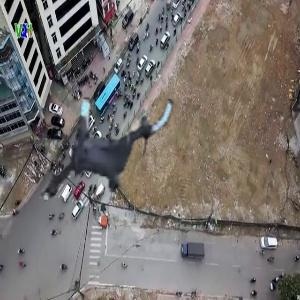drone: (37, 70, 182, 215)
